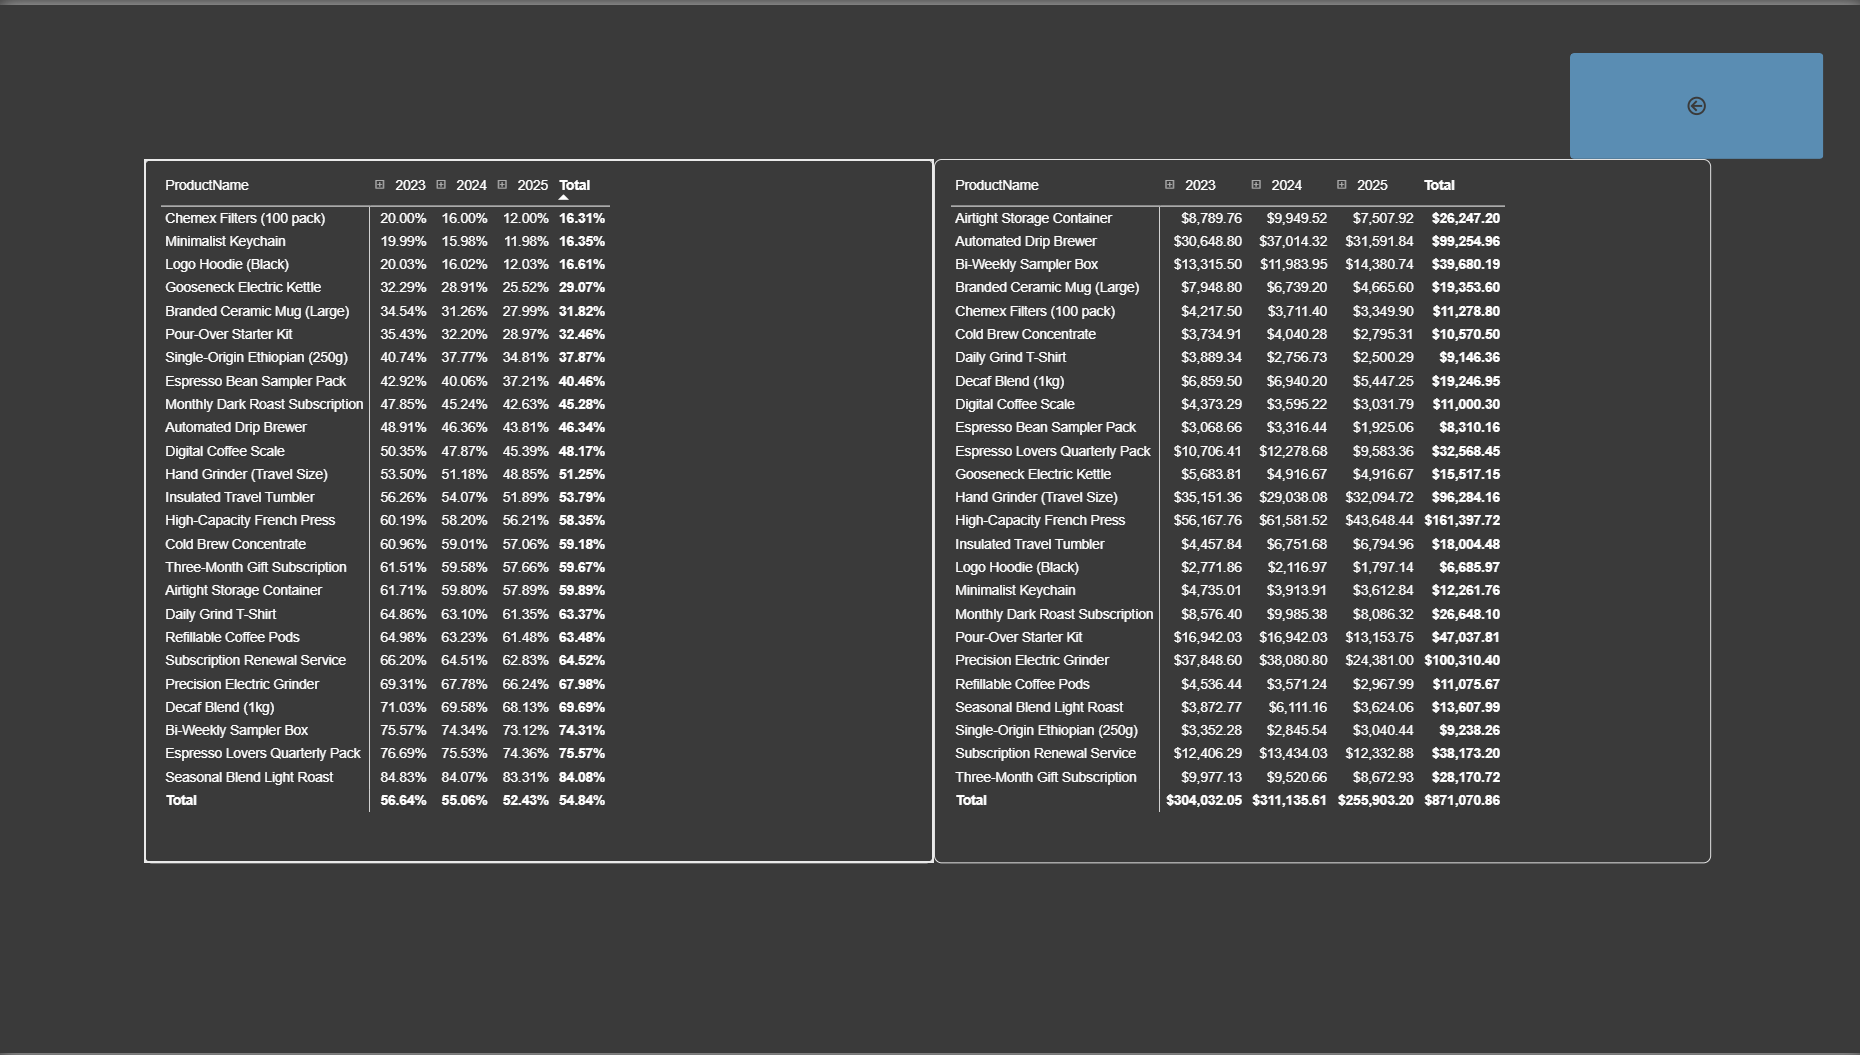

The dashboard page shown, as its layout file describes it:
{"tool":"powerbi","page":{"name":"Product","canvas":[1920,1080],"ordinal":1},"visuals":[{"type":"pivotTable","fields":{"Columns":["Query.OrderDate.Variation.Date Hierarchy.Year","Query.OrderDate.Variation.Date Hierarchy.Quarter","Query.OrderDate.Variation.Date Hierarchy.Month","Query.OrderDate.Variation.Date Hierarchy.Day"],"Rows":["Query.ProductName"],"Values":["Query.Margin"]},"box":[147.7,158.4,813.4,725.6],"z":0},{"type":"pivotTable","fields":{"Columns":["Query.OrderDate.Variation.Date Hierarchy.Year","Query.OrderDate.Variation.Date Hierarchy.Quarter","Query.OrderDate.Variation.Date Hierarchy.Month","Query.OrderDate.Variation.Date Hierarchy.Day"],"Rows":["Query.ProductName"],"Values":["Sum(Query.CleanedRevenue)"]},"box":[961.1,158.4,800.5,725.6],"z":1000},{"type":"actionButton","box":[1618.2,49.2,261.1,109.2],"z":2000}]}

Visuals, with their boxes on the page's 1920x1080 design canvas (x1, y1, x2, y2). These are canvas units, not pixel positions in the 1860x1055 screenshot, which may show the page scaled, cropped or inside an application window:
pivotTable - Query.OrderDate.Variation.Date Hierarchy.Year x Query.OrderDate.Variation.Date Hierarchy.Quarter: crop(148, 158, 961, 884)
pivotTable - Query.OrderDate.Variation.Date Hierarchy.Year x Query.OrderDate.Variation.Date Hierarchy.Quarter: crop(961, 158, 1762, 884)
actionButton: crop(1618, 49, 1879, 158)
